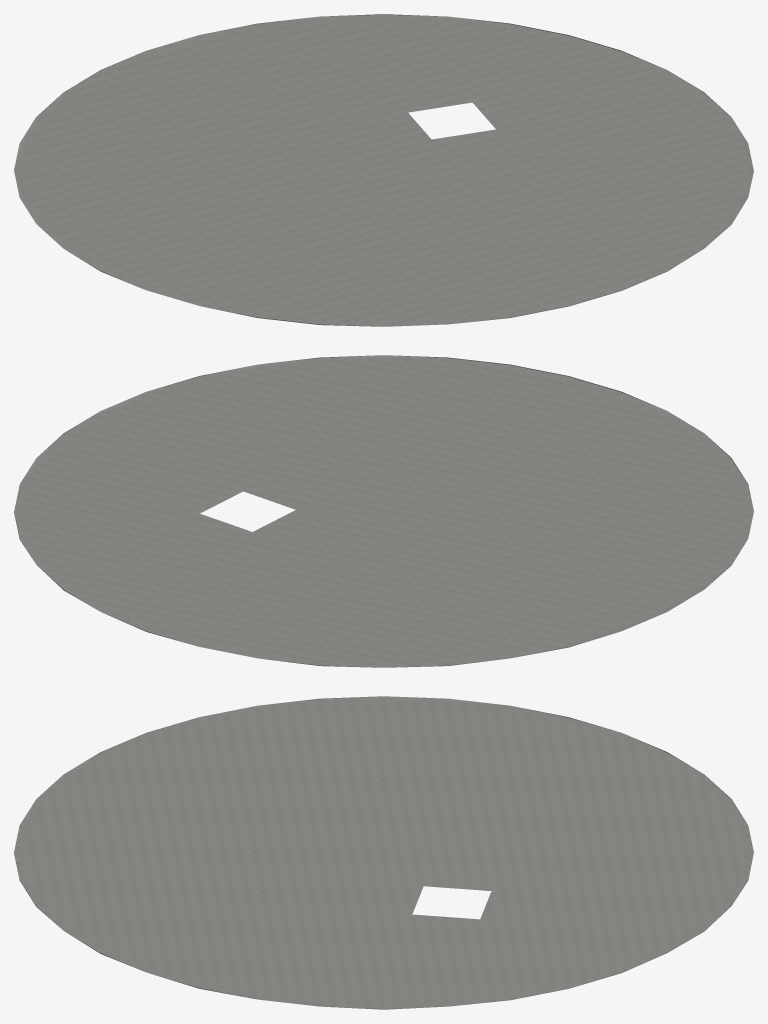
Rendered from pisoparte3.fbx.
The picture shows the model from 3 angles, top to bottom: view 1: azimuth 30°, elevation 25°; view 2: azimuth 150°, elevation 25°; view 3: azimuth 270°, elevation 25°; orthographic projection.
Visible parts, largest first — view 1: Circle.058; view 2: Circle.058; view 3: Circle.058.
Part boxes in pixels (<box>): Circle.058: <box>14,14,753,326</box>; Circle.058: <box>14,355,753,667</box>; Circle.058: <box>14,696,753,1009</box>.
Size of the model in its own units: 60014 by 67.28 by 59998.
Materials: 1 (1 with a texture image).
